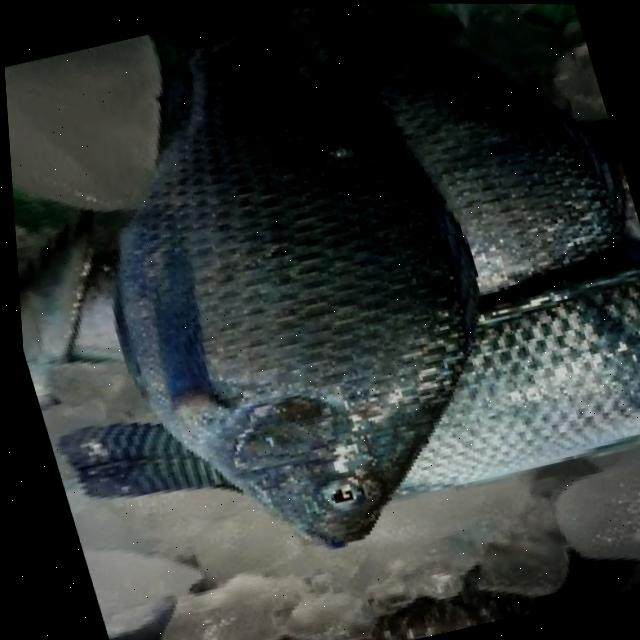Fresh: (24, 26, 523, 596)
